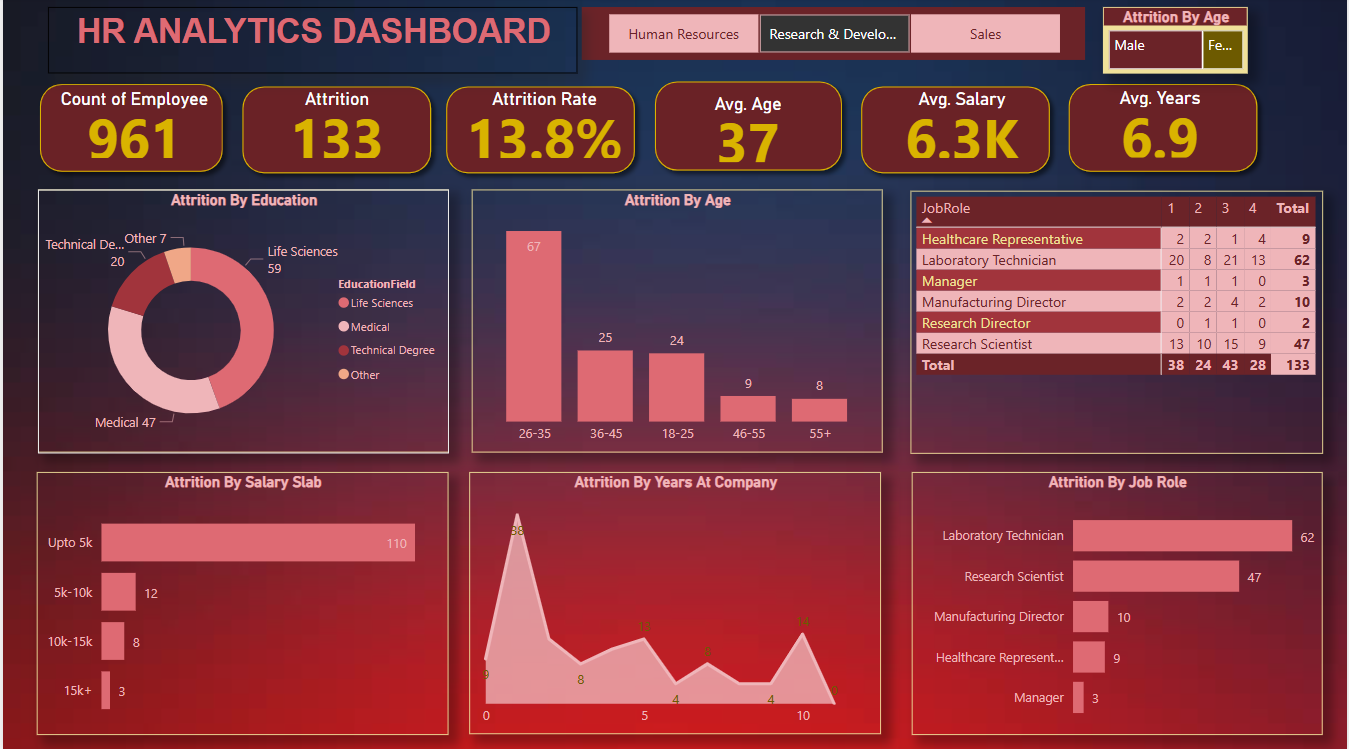

The dashboard page shown, as its layout file describes it:
{"tool":"powerbi","page":{"name":"Page 1","canvas":[1280,720],"ordinal":0},"visuals":[{"type":"shape","box":[26.4,73,192,101.6],"z":0,"group":"g1"},{"type":"shape","box":[1005.9,73.7,197.6,101.6],"z":0},{"type":"card","title":"Count of Employee","fields":{"Values":["CountNonNull(HR_Analytics.EmpID)"]},"box":[42.9,86.1,164.6,71.3],"z":1000,"group":"g1"},{"type":"group","id":"g1","title":"KPI","box":[26.4,71,1159,105.7],"z":1000},{"type":"shape","box":[612.2,71.2,196.2,103],"z":2000,"group":"g1"},{"type":"donutChart","title":"Attrition By Education","fields":{"Category":["HR_Analytics.EducationField"],"Y":["Sum(HR_Analytics.AttritionCount)"]},"box":[33.4,183.7,391,250.4],"z":2000},{"type":"card","fields":{"Values":["CountNonNull(HR_Analytics.EmpID)"]},"box":[224,71,164.6,71.3],"z":3000,"group":"g1"},{"type":"columnChart","title":"Attrition By Age","fields":{"Category":["HR_Analytics.AgeGroup"],"Y":["Sum(HR_Analytics.AttritionCount)"]},"box":[446.6,183.7,391,250.4],"z":3000},{"type":"shape","box":[413.5,75.4,197.8,100.7],"z":4000,"group":"g1"},{"type":"pivotTable","fields":{"Rows":["HR_Analytics.JobRole"],"Columns":["HR_Analytics.JobSatisfaction"],"Values":["Sum(HR_Analytics.AttritionCount)"]},"box":[864.3,184.3,392.9,250],"z":4000},{"type":"card","title":"Attrition Rate","fields":{"Values":["HR_Analytics.Attrition Rate"]},"box":[433.9,86.1,164.6,71.3],"z":5000,"group":"g1"},{"type":"clusteredBarChart","title":"Attrition By Salary Slab","fields":{"Category":["HR_Analytics.SalarySlab"],"Y":["Sum(HR_Analytics.AttritionCount)"]},"box":[32.4,451.8,391.9,250.5],"z":5000},{"type":"shape","box":[218.9,75.4,197.8,100.7],"z":6000,"group":"g1"},{"type":"clusteredBarChart","title":"Attrition By Job Role","fields":{"Y":["Sum(HR_Analytics.AttritionCount)"],"Category":["HR_Analytics.JobRole"]},"box":[865.4,452.2,391,250.4],"z":6000},{"type":"card","title":"Attrition","fields":{"Values":["Sum(HR_Analytics.AttritionCount)"]},"box":[236.3,86.1,164.6,71.3],"z":7000,"group":"g1"},{"type":"areaChart","title":"Attrition By Years At Company","fields":{"Category":["HR_Analytics.YearsAtCompany"],"Y":["Sum(HR_Analytics.AttritionCount)"]},"box":[443.8,451.6,392,249.9],"z":7000},{"type":"treemap","title":"Attrition By Age","fields":{"Group":["HR_Analytics.Gender"],"Values":["Sum(HR_Analytics.AttritionCount)"]},"box":[1047.5,9.6,137.8,63.5],"z":8000},{"type":"card","title":"Avg. Age","fields":{"Values":["Avg(HR_Analytics.Age)"]},"box":[626.8,91.2,164.2,70.7],"z":8000,"group":"g1"},{"type":"card","fields":{"Values":["Avg(HR_Analytics.Age)"]},"box":[830.3,71,164.6,71.3],"z":9000,"group":"g1"},{"type":"slicer","fields":{"Values":["HR_Analytics.Department"]},"box":[551.3,9.6,479.4,50.3],"z":9000},{"type":"shape","box":[807.8,75.6,197.8,100.7],"z":10000,"group":"g1"},{"type":"textbox","box":[42.9,10,504.3,62.9],"z":10000},{"type":"card","title":"Avg. Salary","fields":{"Values":["Avg(HR_Analytics.MonthlyIncome)"]},"box":[830.3,86.1,164.6,71.3],"z":11000,"group":"g1"},{"type":"card","title":"Avg. Years","fields":{"Values":["Avg(HR_Analytics.YearsAtCompany)"]},"box":[1019.2,84.9,165.6,72.3],"z":12000,"group":"g1"}]}

Visuals, with their boxes in screenshot pixels (x1, y1, x2, y2), scaled from the page's 1280x720 canvas onto the 1349x749 screenshot:
shape: 28:76:230:182
shape: 1060:77:1268:182
"Count of Employee" card: 45:90:219:164
"KPI" group: 28:74:1249:184
shape: 645:74:852:181
"Attrition By Education" donutChart: 35:191:447:452
card - CountNonNull(HR_Analytics.EmpID): 236:74:410:148
"Attrition By Age" columnChart: 471:191:883:452
shape: 436:78:644:183
pivotTable - HR_Analytics.JobRole x HR_Analytics.JobSatisfaction: 911:192:1325:452
"Attrition Rate" card: 457:90:631:164
"Attrition By Salary Slab" clusteredBarChart: 34:470:447:731
shape: 231:78:439:183
"Attrition By Job Role" clusteredBarChart: 912:470:1324:731
"Attrition" card: 249:90:423:164
"Attrition By Years At Company" areaChart: 468:470:881:730
"Attrition By Age" treemap: 1104:10:1249:76
"Avg. Age" card: 661:95:834:168
card - Avg(HR_Analytics.Age): 875:74:1049:148
slicer - HR_Analytics.Department: 581:10:1086:62
shape: 851:79:1060:183
textbox: 45:10:577:76
"Avg. Salary" card: 875:90:1049:164
"Avg. Years" card: 1074:88:1249:164
